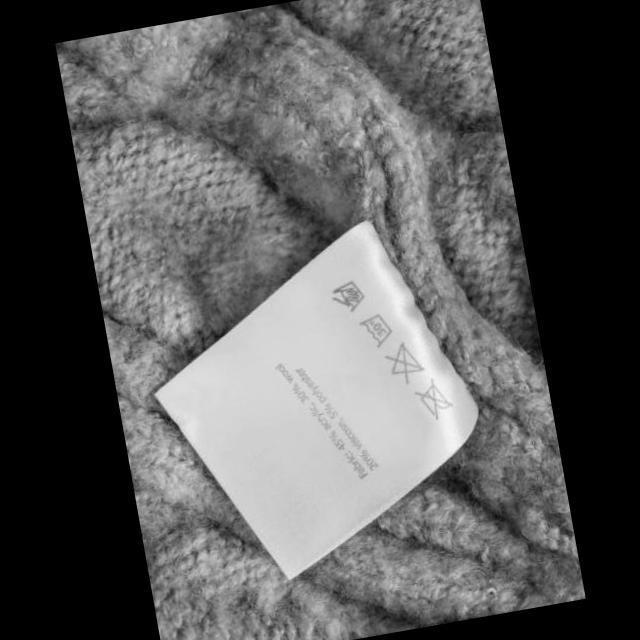30C: (356, 307, 397, 350)
DN_bleach: (381, 336, 428, 386)
DN_iron: (411, 372, 458, 425)
hand_wash: (327, 272, 371, 314)
